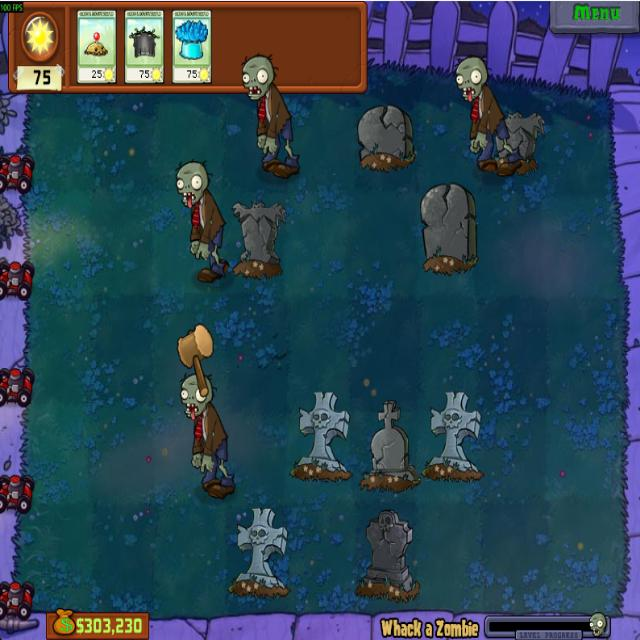grave: (288, 389, 358, 482), (354, 510, 418, 600), (229, 507, 290, 599), (360, 401, 420, 491), (419, 184, 477, 273), (423, 392, 480, 482), (229, 200, 283, 276), (356, 104, 416, 170), (496, 110, 545, 167)
gravebuster: (124, 10, 164, 84)
zombie: (176, 369, 218, 422), (451, 54, 488, 107), (239, 52, 278, 102), (175, 158, 209, 209)
